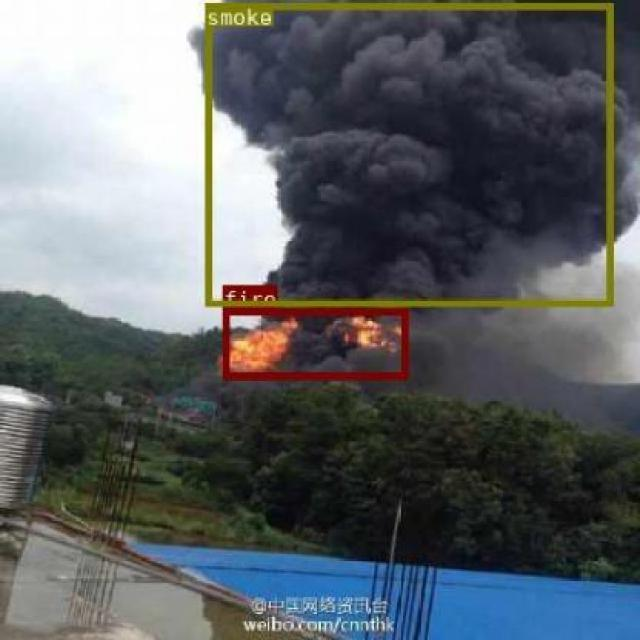Fire: (221, 307, 407, 378)
Smoke: (205, 2, 612, 306)
